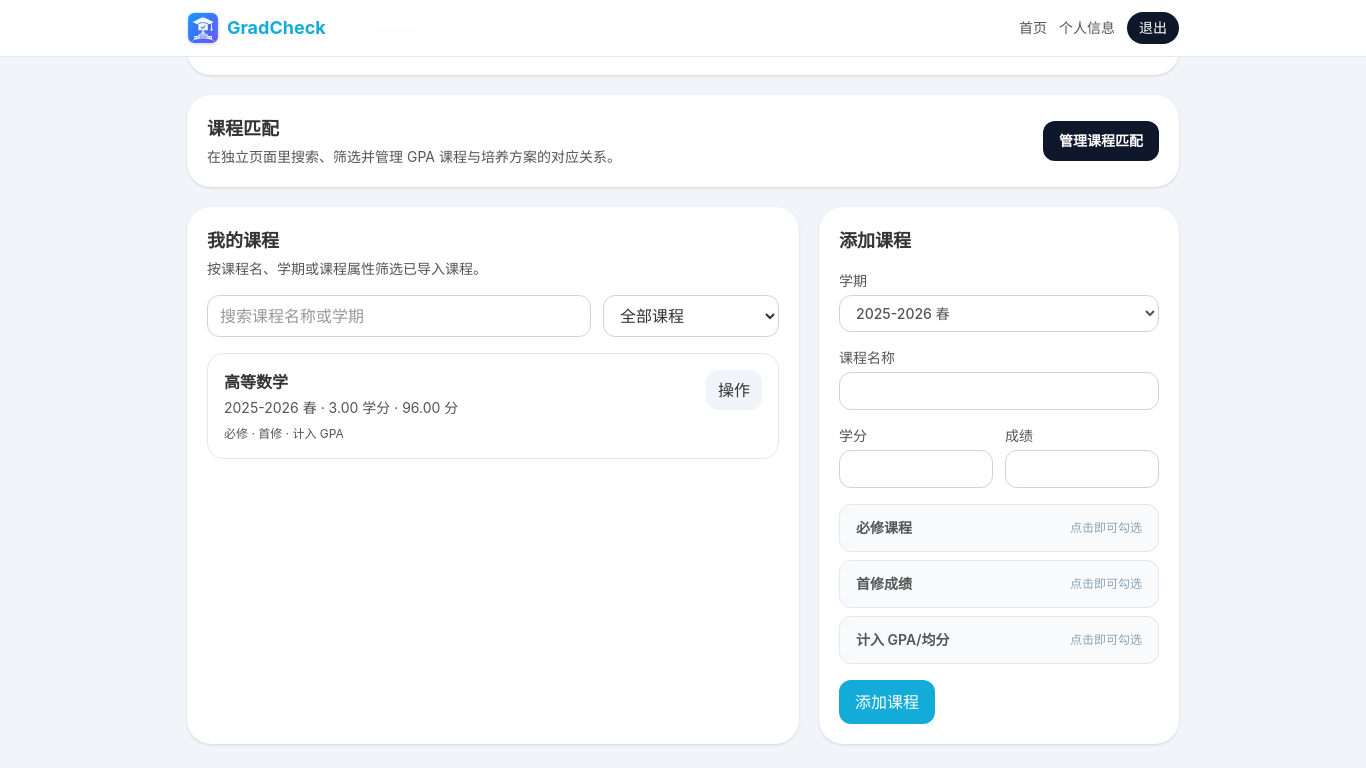
Scenario: GpaPage › opens course actions and scrolls to the form when editing
(page scrolled)
What coordinates should you click on to do the following:
click the button with test id "gpa-course-actions"
I would click on:
 (734, 390)
Its box is left=706, top=370, right=762, bottom=410.
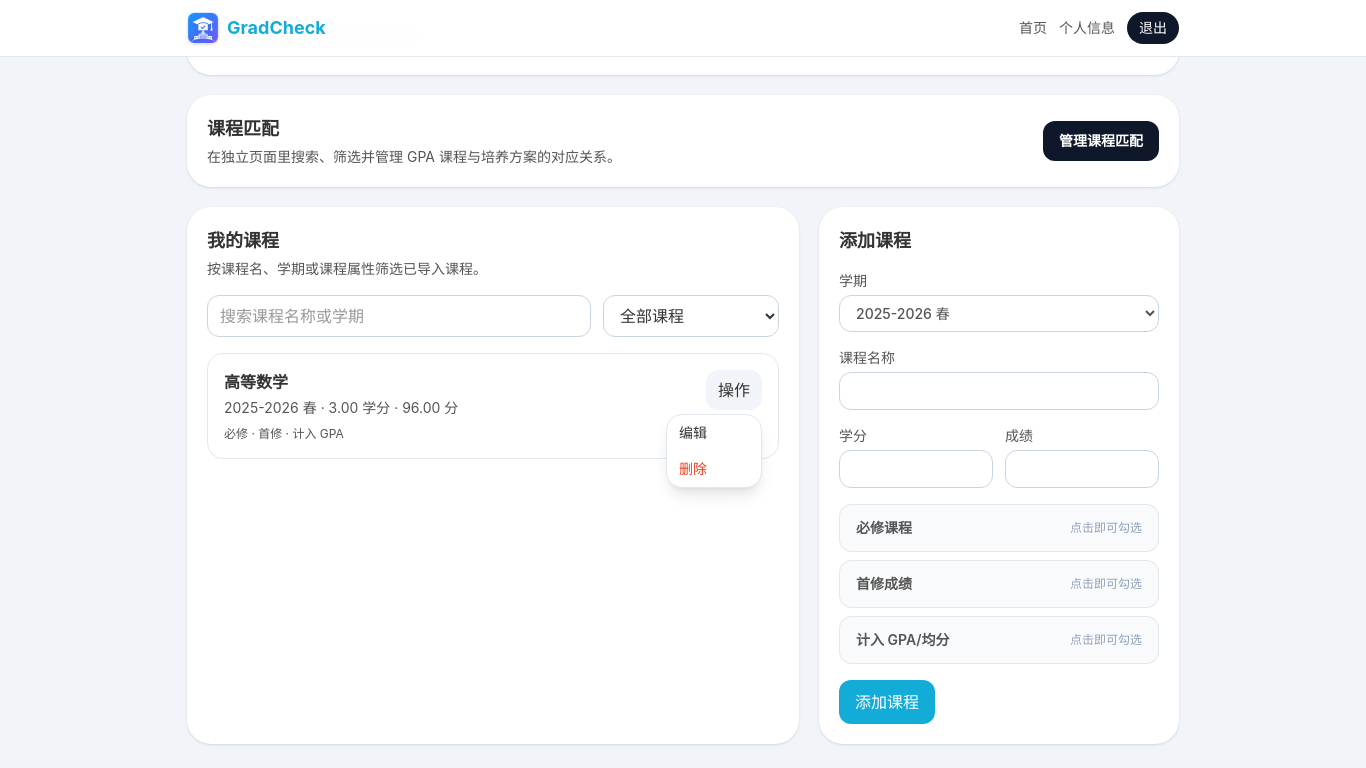
Expected: the button with test id "gpa-course-edit" reads "编辑"
Expected: the button with test id "gpa-course-delete" reads "删除", left=667, top=451, right=761, bottom=487
What coordinates should you click on to do the following:
click the button with test id "gpa-course-edit"
I would click on:
 (714, 433)
Its box is left=667, top=415, right=761, bottom=451.
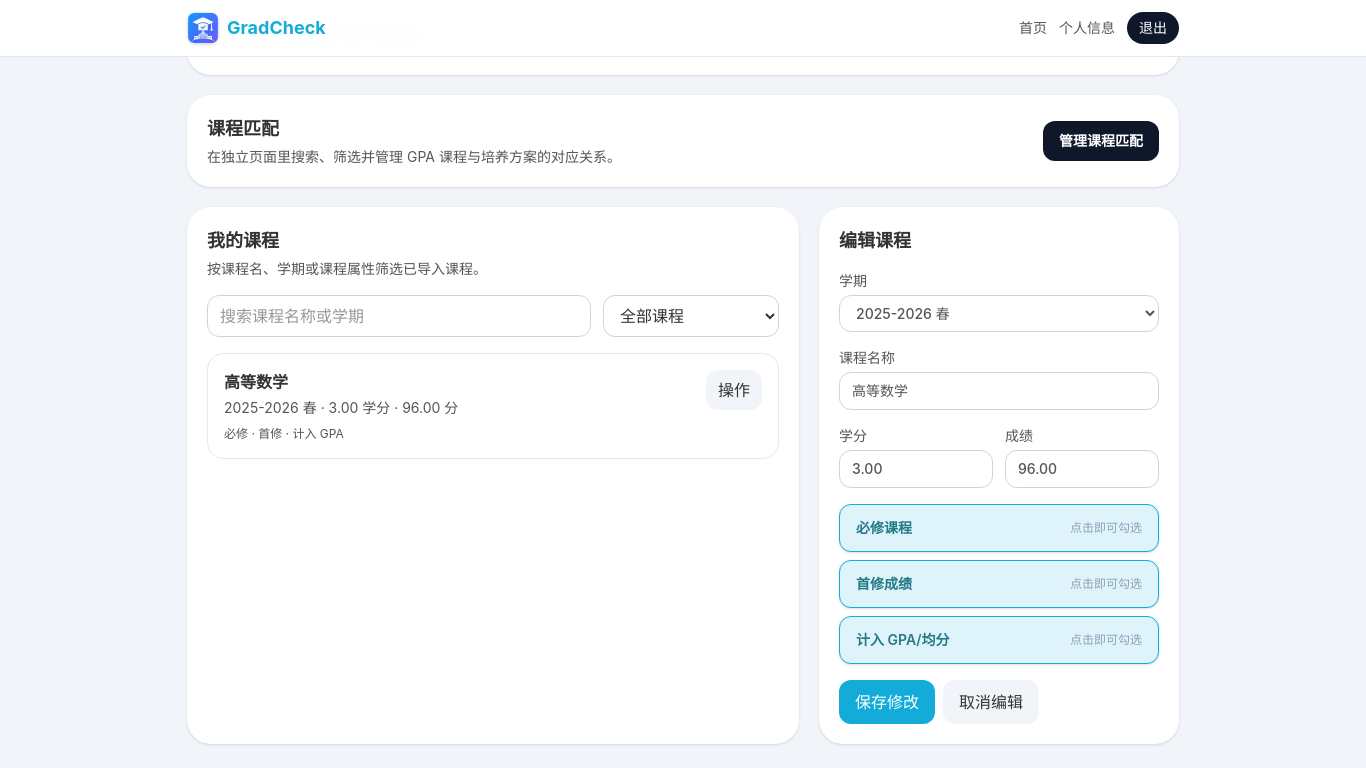
Expected: the heading with test id "gpa-course-form-title" reads "编辑课程", left=839, top=230, right=911, bottom=251
Expected: the field with test id "gpa-course-name" holds "高等数学", left=839, top=372, right=1159, bottom=410
